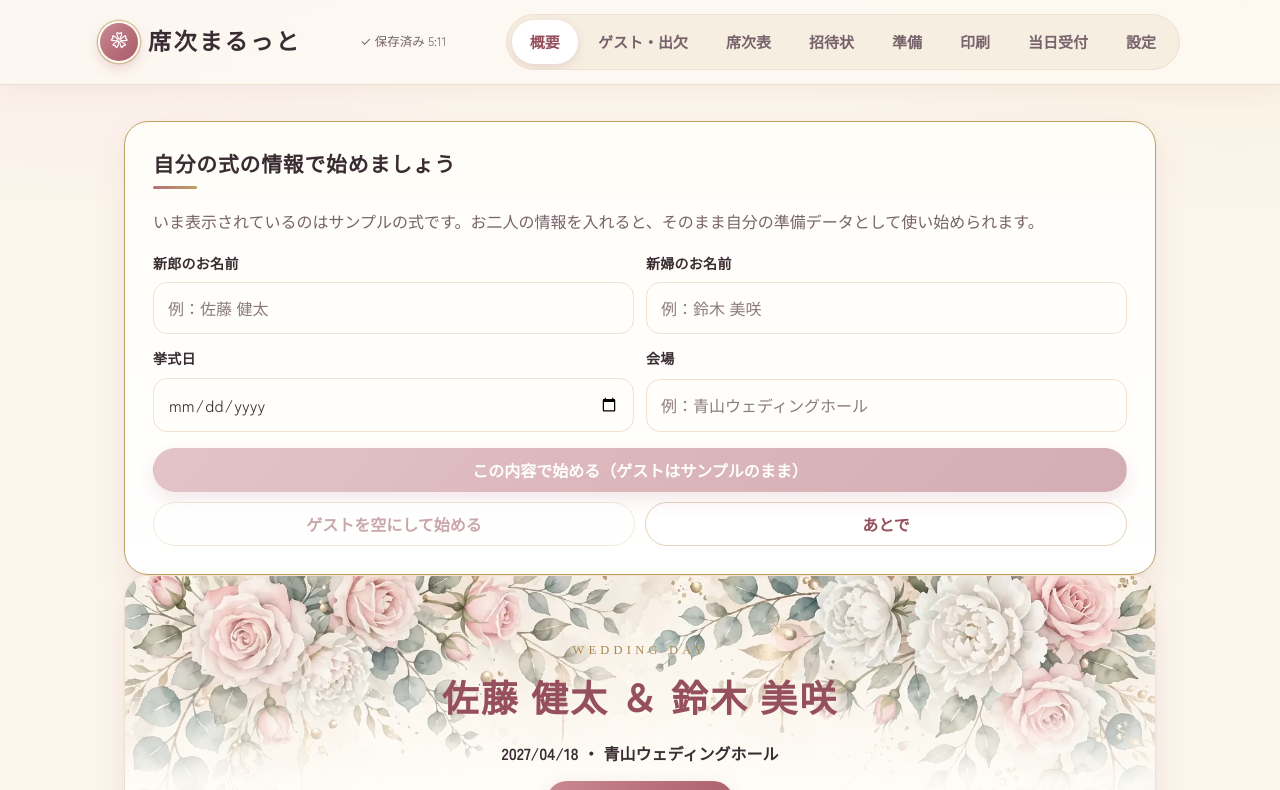
it: App smoke › guests view lists the seed guests
Click the tab "ゲスト・出欠": (643, 42) [580, 20, 706, 64]
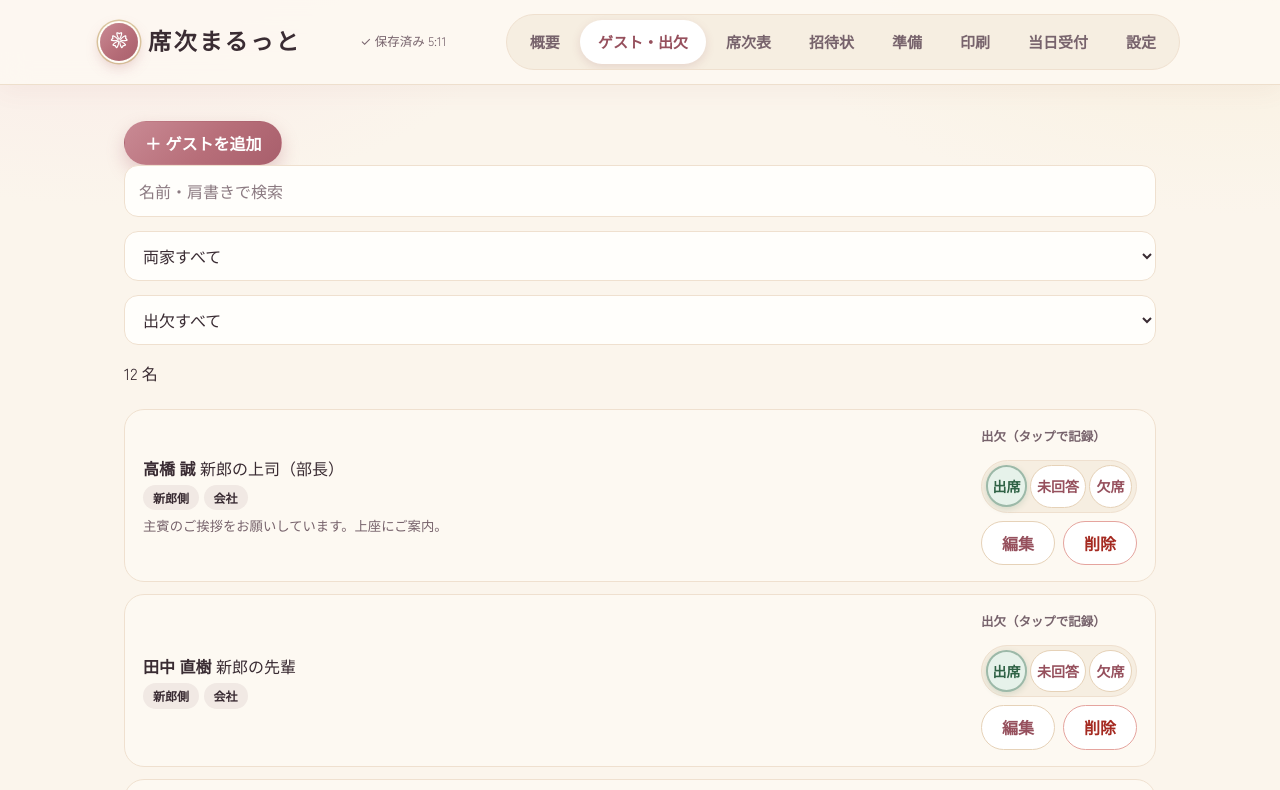
expect the text "12 名" is shown: met, box [124, 359, 158, 387]
expect the text "高橋 誠" is shown: met, box [143, 456, 196, 480]
